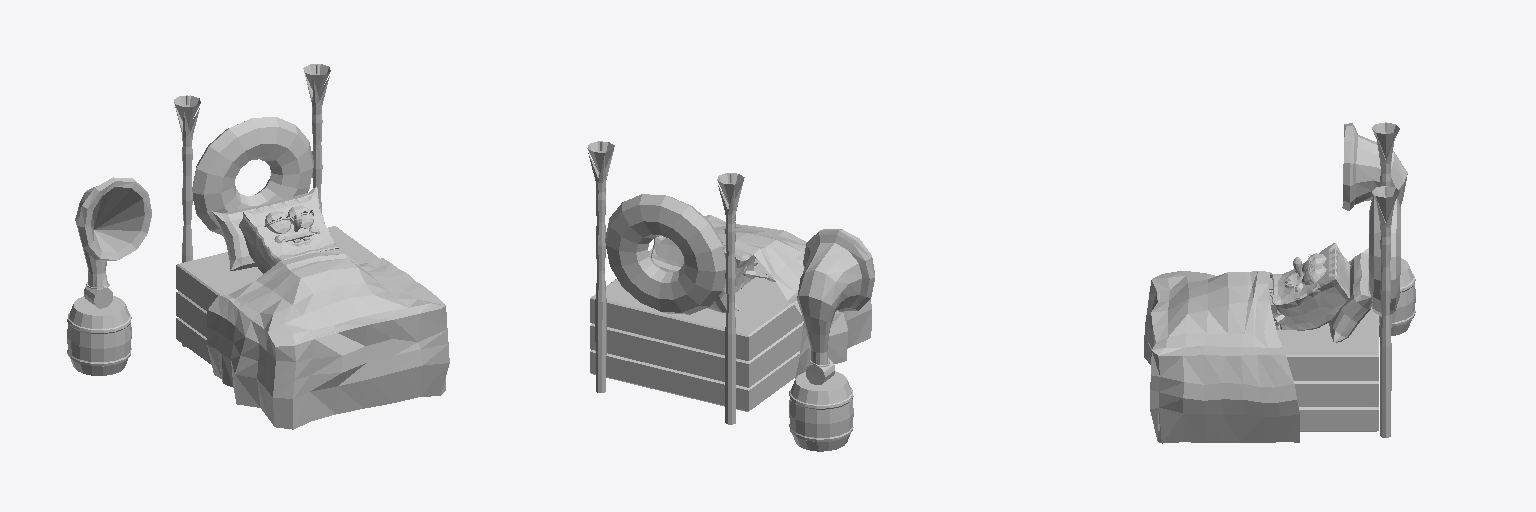
Rendered from MSH_boss3.obj.
The picture shows the model from 3 angles: view 1: azimuth 30°, elevation 25°; view 2: azimuth 150°, elevation 25°; view 3: azimuth 270°, elevation 25°; orthographic projection.
Visible parts, largest first — view 1: MSH_boss3_bed, MSH_boss3_barrel, MSH_boss3_bob; view 2: MSH_boss3_bed, MSH_boss3_barrel, MSH_boss3_bob; view 3: MSH_boss3_bed, MSH_boss3_bob, MSH_boss3_barrel.
Part boxes in pixels (x1,y1,x2,y2): MSH_boss3_bed: (174, 64, 449, 429); MSH_boss3_barrel: (67, 177, 151, 375); MSH_boss3_bob: (239, 194, 338, 273); MSH_boss3_bed: (587, 141, 871, 424); MSH_boss3_barrel: (789, 229, 874, 451); MSH_boss3_bob: (651, 236, 775, 292); MSH_boss3_bed: (1144, 122, 1400, 443); MSH_boss3_bob: (1269, 243, 1350, 330); MSH_boss3_barrel: (1342, 123, 1415, 336).
Size of the model in its own units: 5.39 by 4.53 by 4.45.